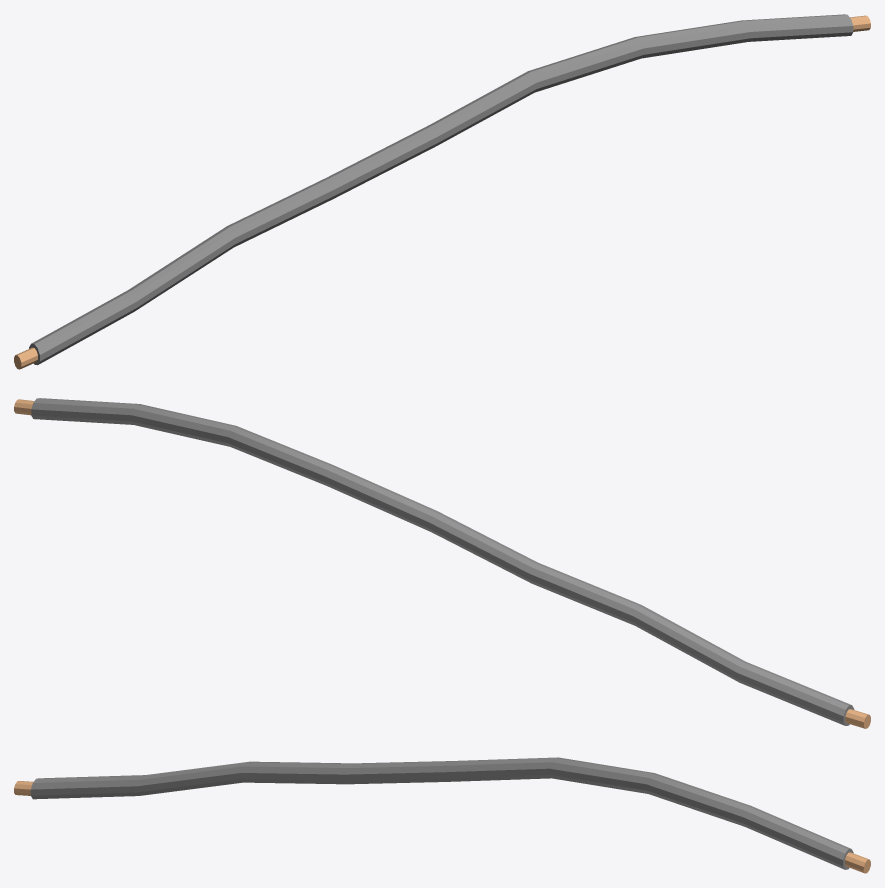
Rendered from Wire_1_Grey.fbx.
The picture shows the model from 3 angles, top to bottom: view 1: azimuth 30°, elevation 25°; view 2: azimuth 150°, elevation 25°; view 3: azimuth 330°, elevation 25°; orthographic projection. The views are drawn at different scales.
Visible parts, largest first — view 1: polySurface237; view 2: polySurface237; view 3: polySurface237.
Part boxes in pixels (x1,y1,x2,y2): polySurface237: (14,14,870,369); polySurface237: (14,398,870,728); polySurface237: (14,757,870,873).
Bounding box in the file's own units: 1.42 × 0.2624 × 0.0817.
